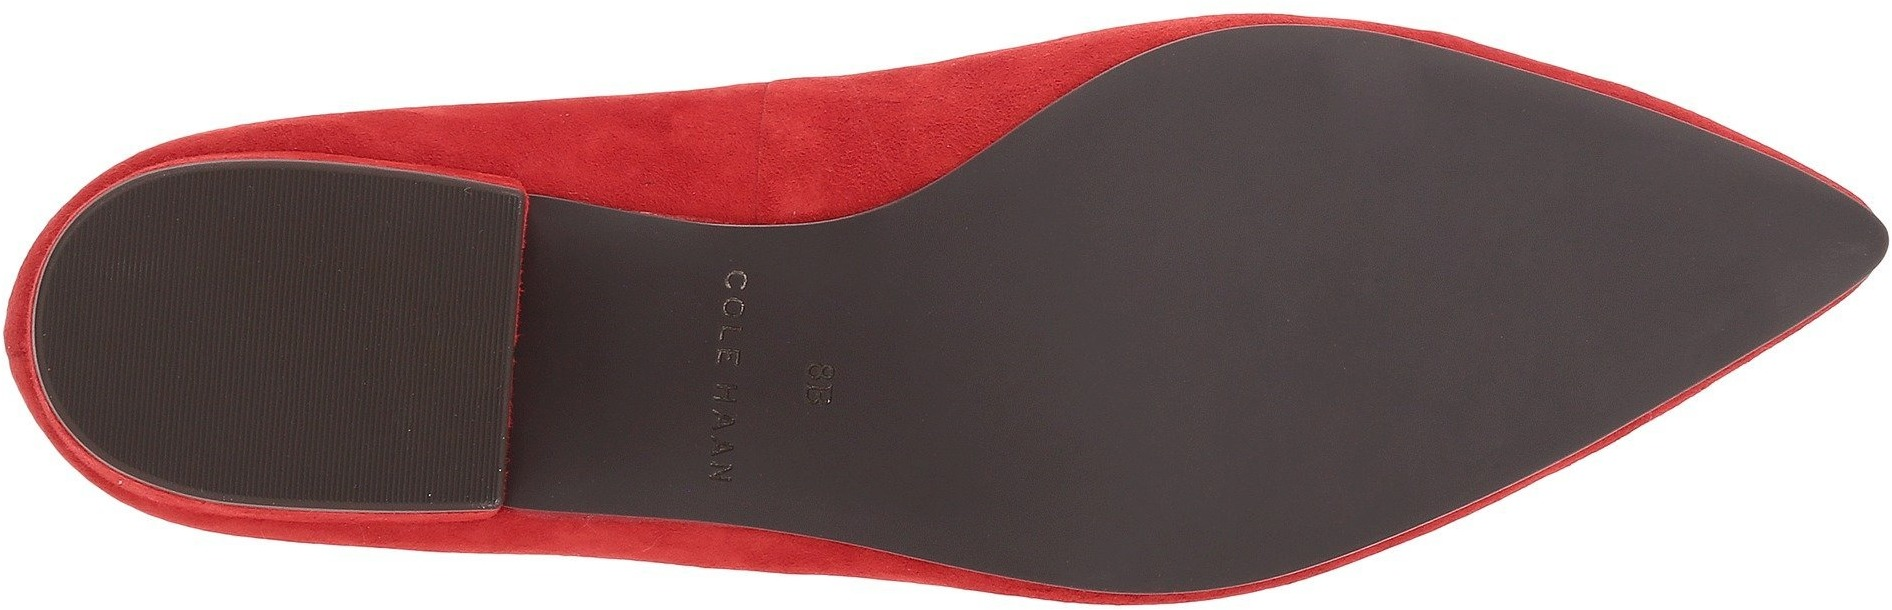other: (1117, 86, 1371, 312), (1123, 317, 1366, 540), (1378, 115, 1618, 338), (895, 222, 1110, 436), (279, 190, 485, 399), (69, 242, 273, 430), (1629, 163, 1791, 329), (1376, 345, 1518, 477)
